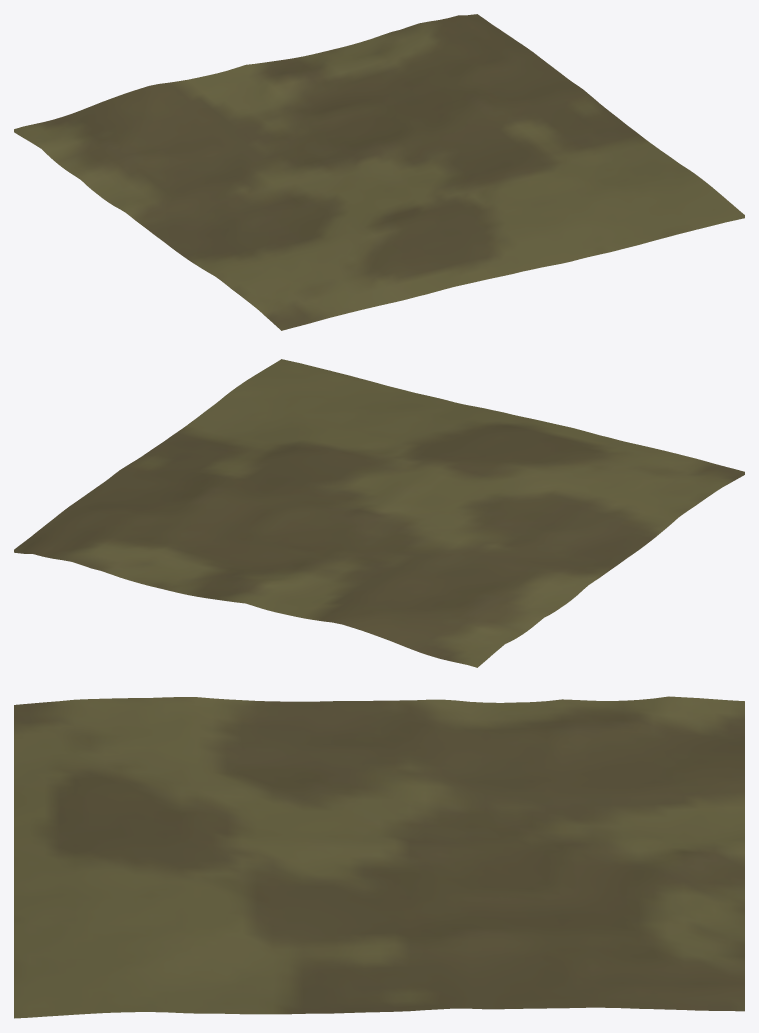
File: land_m_07_01.glb
3 renders of one model, top to bottom at view 1: azimuth 30°, elevation 25°; view 2: azimuth 150°, elevation 25°; view 3: azimuth 270°, elevation 25°, orthographic. The views are drawn at different scales.
Parts seen in each view (by area): view 1: land_m_07_01; view 2: land_m_07_01; view 3: land_m_07_01.
Boxes of the visible parts, box(x1,y1,x2,y2) form: land_m_07_01: box(14, 14, 744, 330); land_m_07_01: box(14, 359, 744, 667); land_m_07_01: box(14, 696, 744, 1018).
Size of the model in its own units: 960 by 35.13 by 960.
